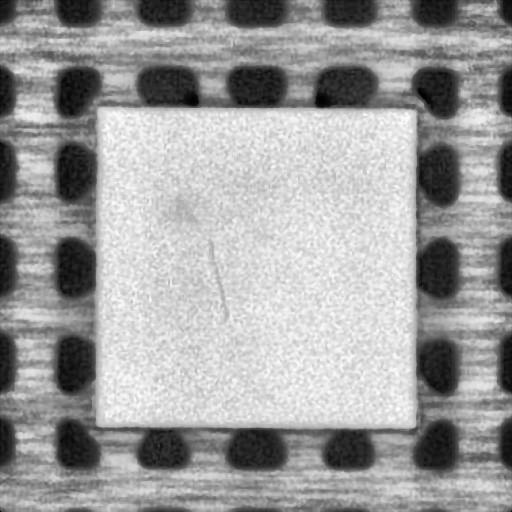DIE_CRACK: (203, 238, 228, 320)
